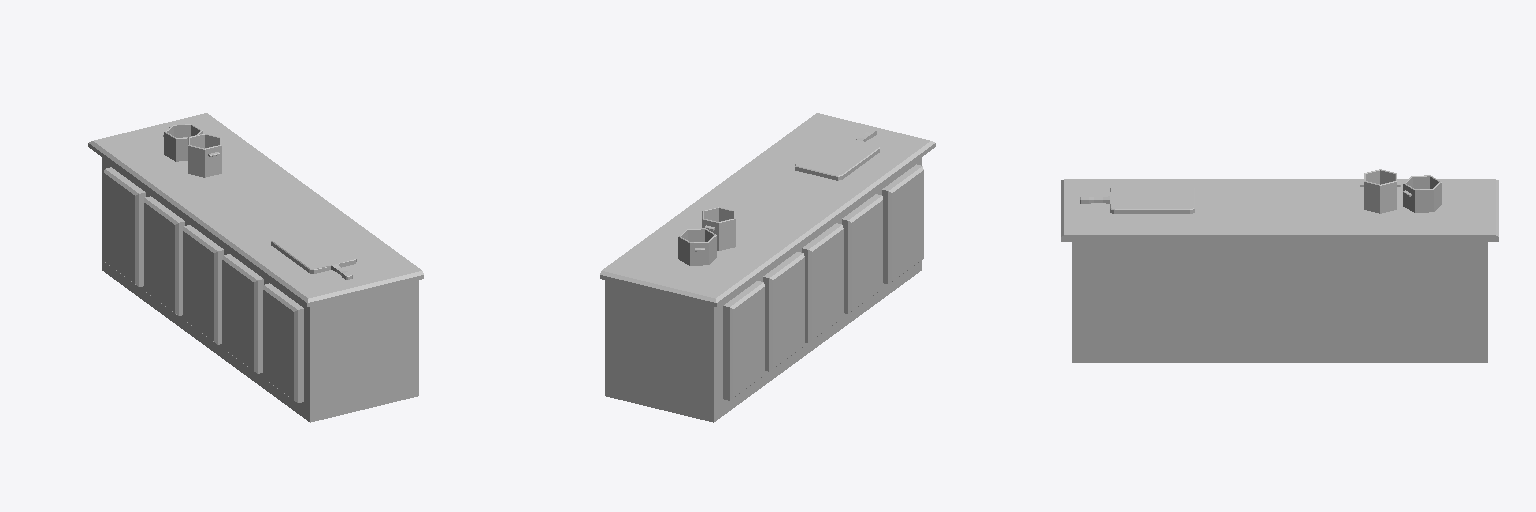
Rendered from kitchen.obj.
3 renders of one model, left to right at view 1: azimuth 30°, elevation 25°; view 2: azimuth 150°, elevation 25°; view 3: azimuth 270°, elevation 25°, orthographic.
Visible parts, largest first — view 1: pCube25, pCube24, pCylinder1, pCylinder2; view 2: pCube25, pCube24, pCylinder2, pCylinder1; view 3: pCube25, pCube24, pCylinder1, pCylinder2.
Part boxes in pixels (bbox=[...]): pCube25: bbox=[88, 113, 423, 422]; pCube24: bbox=[271, 229, 356, 279]; pCylinder1: bbox=[188, 133, 221, 177]; pCylinder2: bbox=[163, 124, 202, 161]; pCube25: bbox=[600, 113, 935, 422]; pCube24: bbox=[795, 129, 879, 180]; pCylinder2: bbox=[678, 228, 716, 265]; pCylinder1: bbox=[702, 207, 735, 250]; pCube25: bbox=[1061, 179, 1498, 362]; pCube24: bbox=[1080, 187, 1194, 213]; pCylinder1: bbox=[1360, 169, 1400, 213]; pCylinder2: bbox=[1403, 175, 1441, 212].
Size of the model in its own units: 1.71 by 2.17 by 5.5.